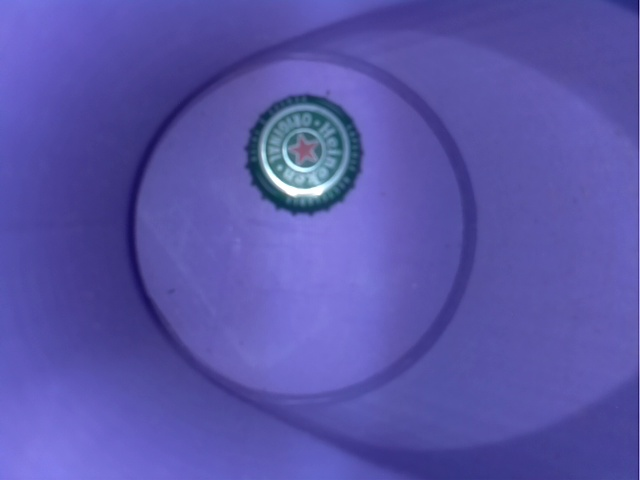capsule: (220, 87, 381, 222)
